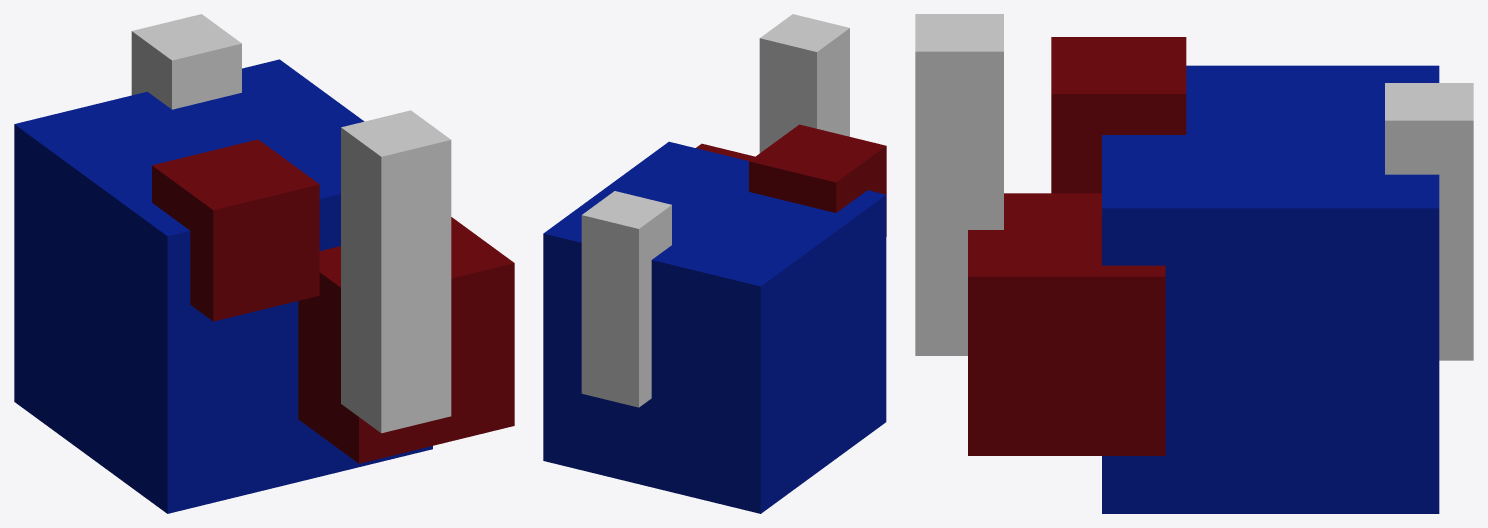
The model's file is Stadt Background0.fbx.
The picture shows the model from 3 angles, left to right: view 1: azimuth 30°, elevation 25°; view 2: azimuth 150°, elevation 25°; view 3: azimuth 270°, elevation 25°; orthographic projection. The views are drawn at different scales.
Parts seen in each view (by area): view 1: Cube.001; view 2: Cube.001; view 3: Cube.001.
Boxes of the visible parts, bbox=[...] form: Cube.001: bbox=[14, 14, 514, 513]; Cube.001: bbox=[543, 14, 886, 513]; Cube.001: bbox=[915, 14, 1473, 513].
Bounding box in the file's own units: 5840 × 7559 × 8964.
